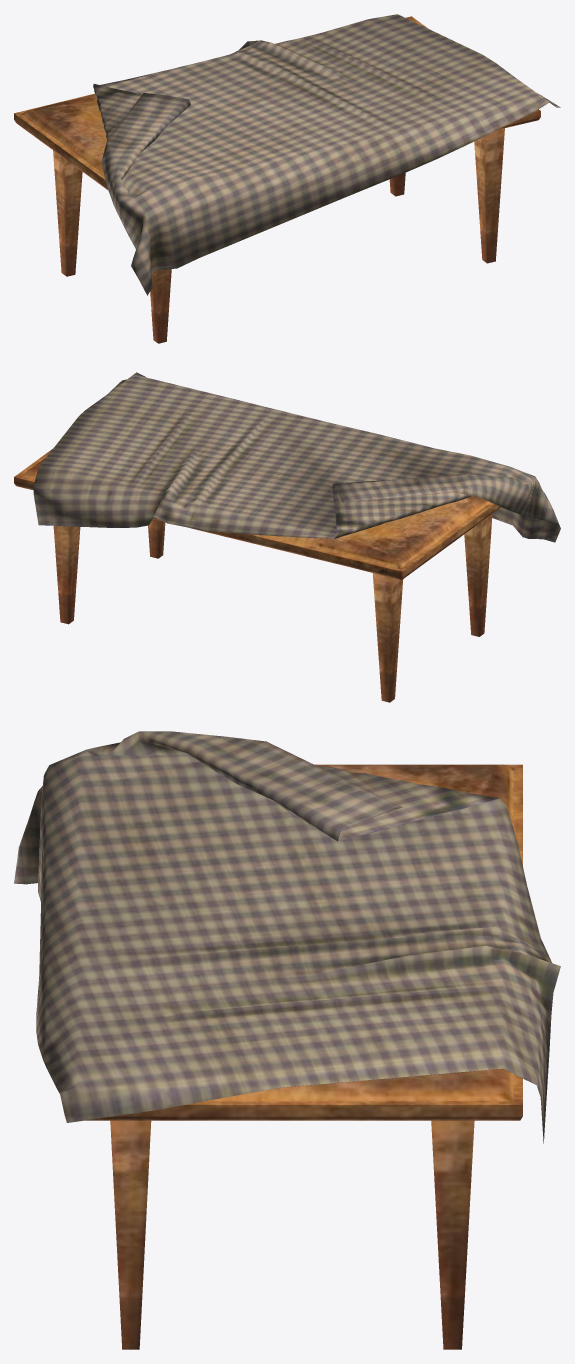
File: cafeteria_table.glb
The picture shows the model from 3 angles, top to bottom: view 1: azimuth 30°, elevation 25°; view 2: azimuth 150°, elevation 25°; view 3: azimuth 270°, elevation 25°; orthographic projection. The views are drawn at different scales.
Bounding box in the file's own units: 2.26 × 0.877 × 1.39.
1 material, 1 textured.
